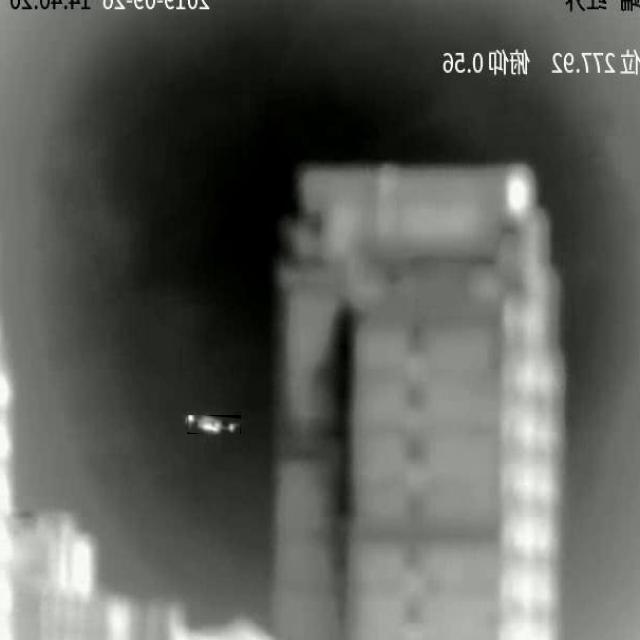drone: (187, 415, 240, 434)
